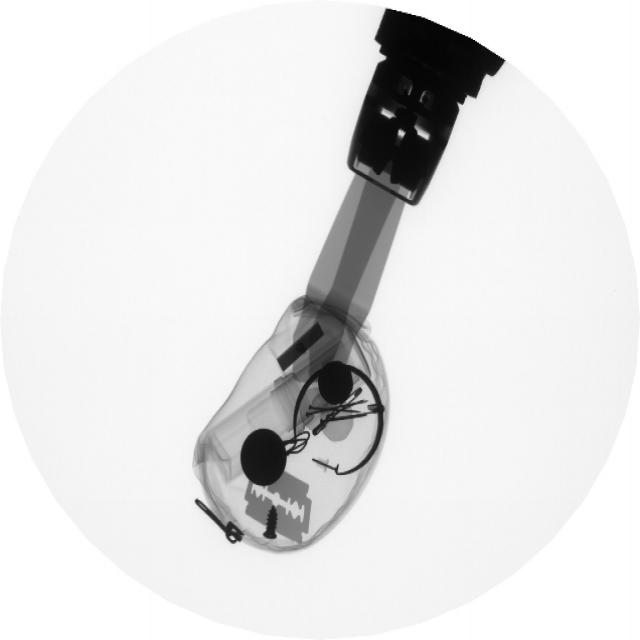BLADE: (242, 459, 320, 546)
